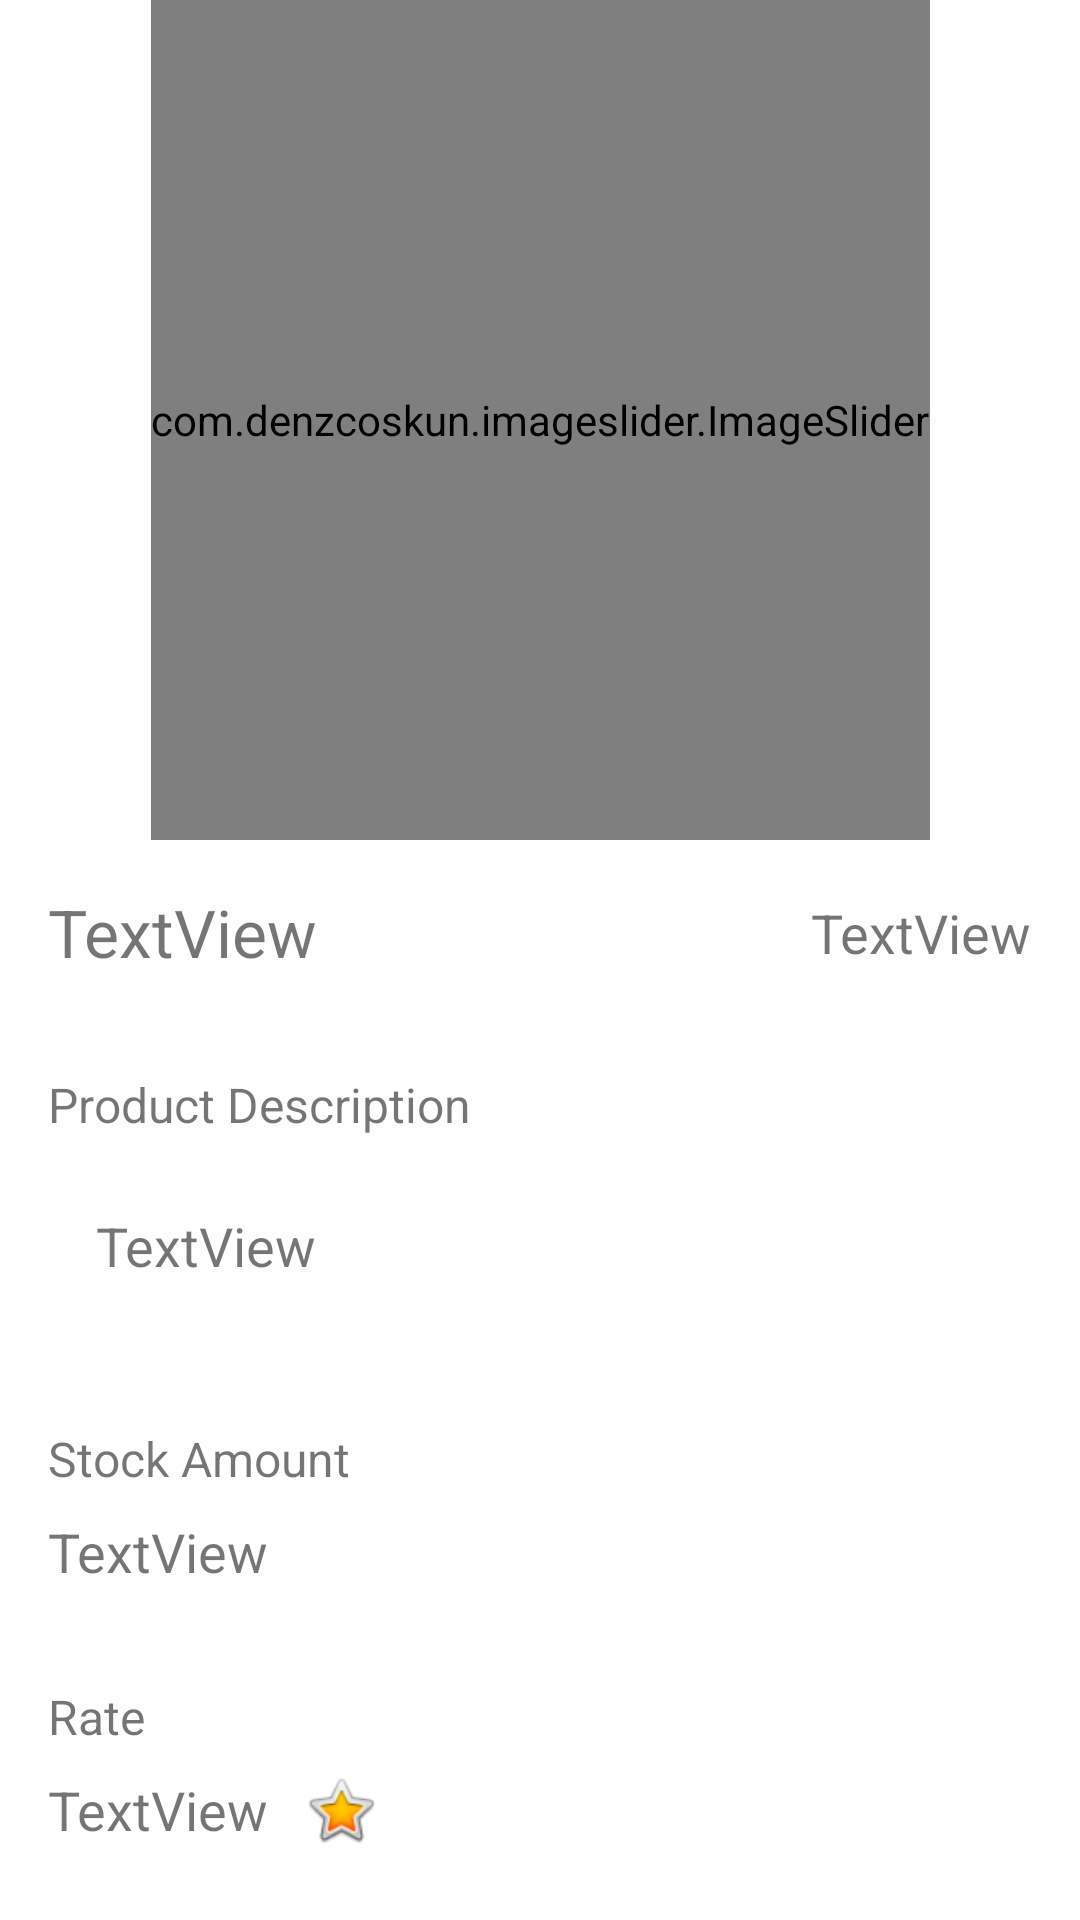

Named icons in this screenshot (1080×1920) and their centers, point (x, y):
star on: point (341, 1810)
